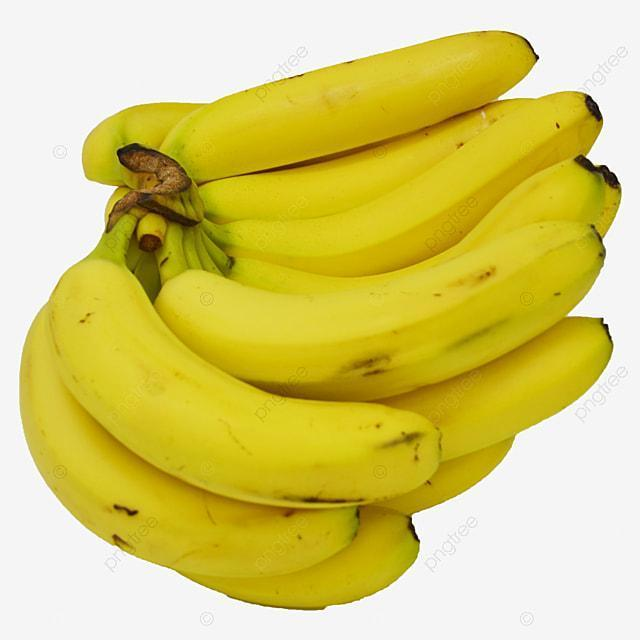Banana: (32, 39, 611, 610)
